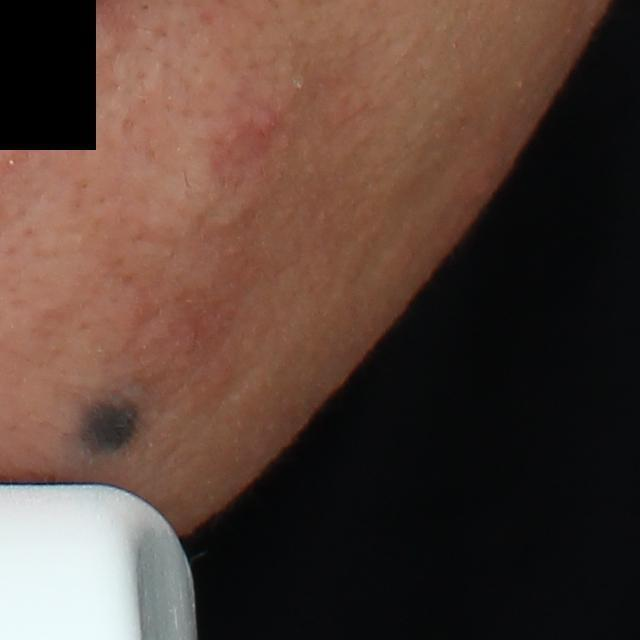nevus: (74, 386, 143, 458)
papule: (254, 108, 278, 138)
